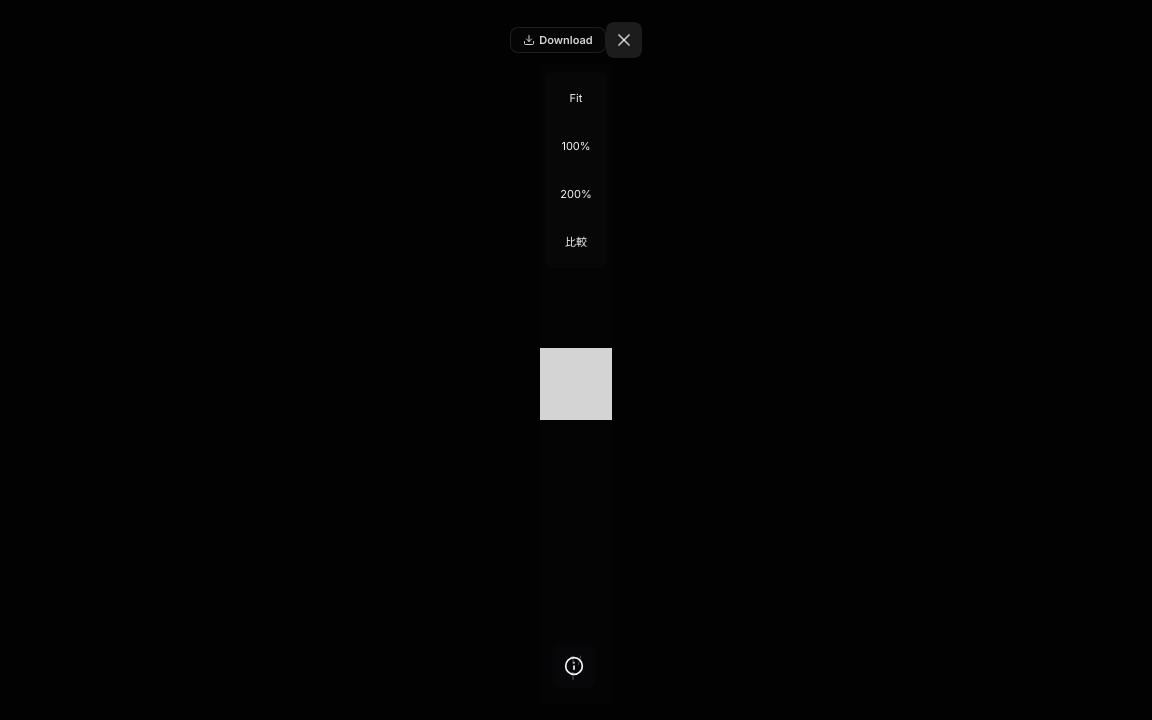
Scenario: HistoryModalPreview › renders Info button when metadata is available from localStorage and toggles panel
Click the button named "show info": (574, 666) top-left (552, 644), bottom-right (596, 688)
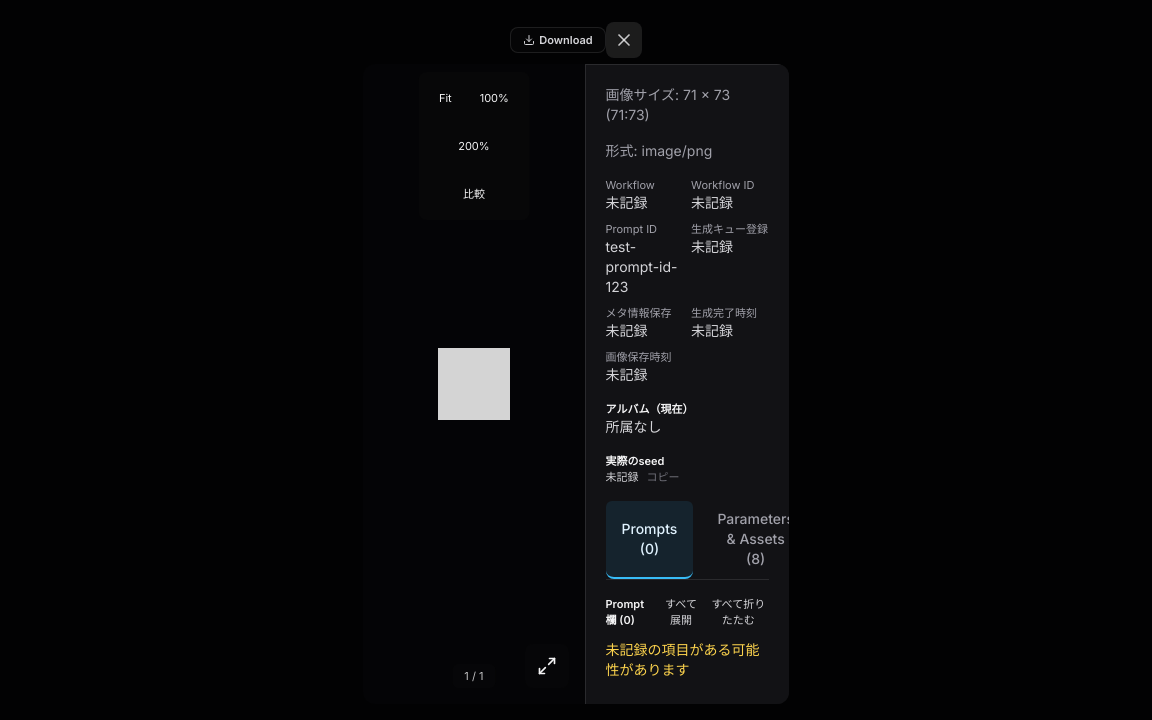
Click the tab "Parameters & Assets (8)": (756, 540) top-left (701, 501), bottom-right (810, 579)
(page scrolled)
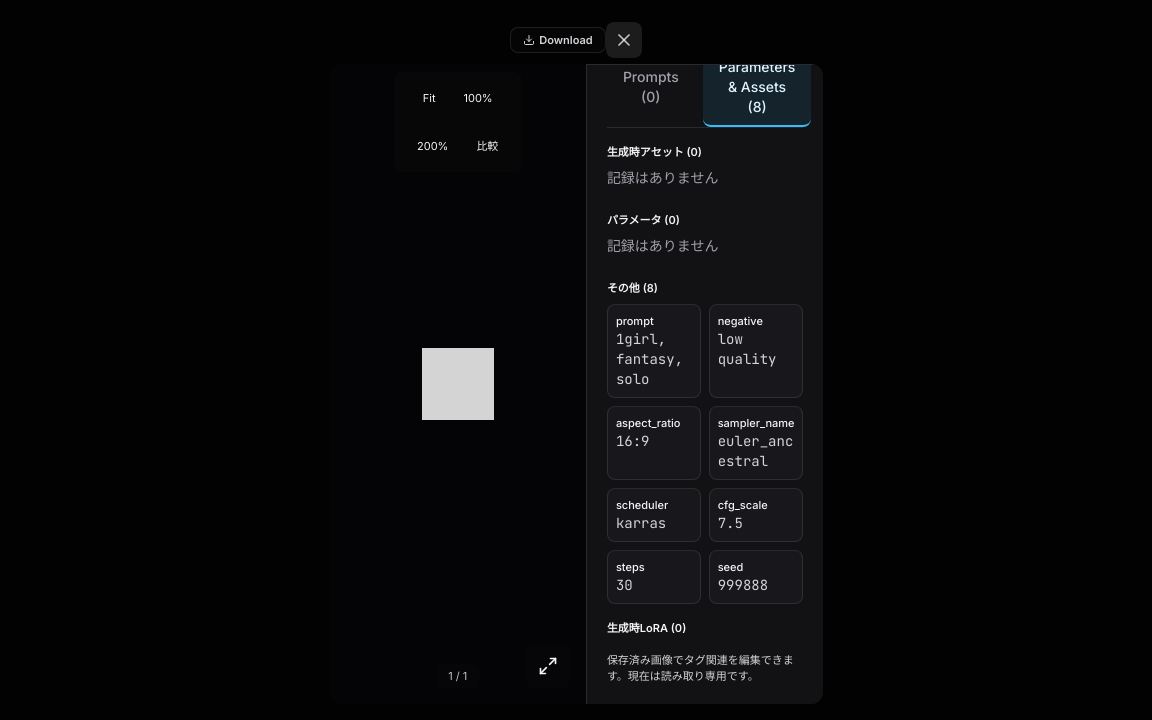
Expected: the text "1girl, fantasy, solo" is shown, top-left (616, 329), bottom-right (692, 389)
Expected: the text "low quality" is shown, top-left (718, 330), bottom-right (776, 368)
Expected: the text "16:9" is shown, top-left (616, 432), bottom-right (650, 450)
